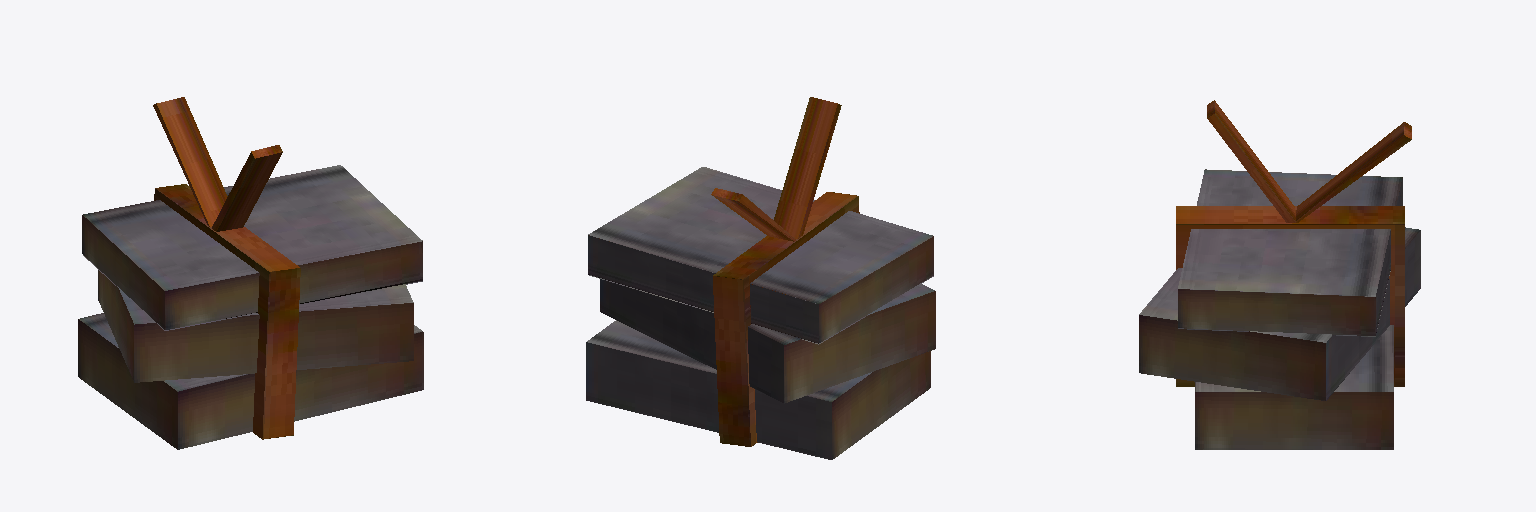
3 views of the same model, side by side, from view 1: azimuth 30°, elevation 25°; view 2: azimuth 150°, elevation 25°; view 3: azimuth 270°, elevation 25° (orthographic).
Parts seen in each view (by area): view 1: Box02; view 2: Box02; view 3: Box02.
Boxes of the visible parts, x1=… form: Box02: x1=78, y1=97, x2=423, y2=449; Box02: x1=586, y1=97, x2=935, y2=459; Box02: x1=1139, y1=100, x2=1420, y2=449.
Size of the model in its own units: 26.74 by 24.33 by 22.6.
Materials: 3 (1 with a texture image).